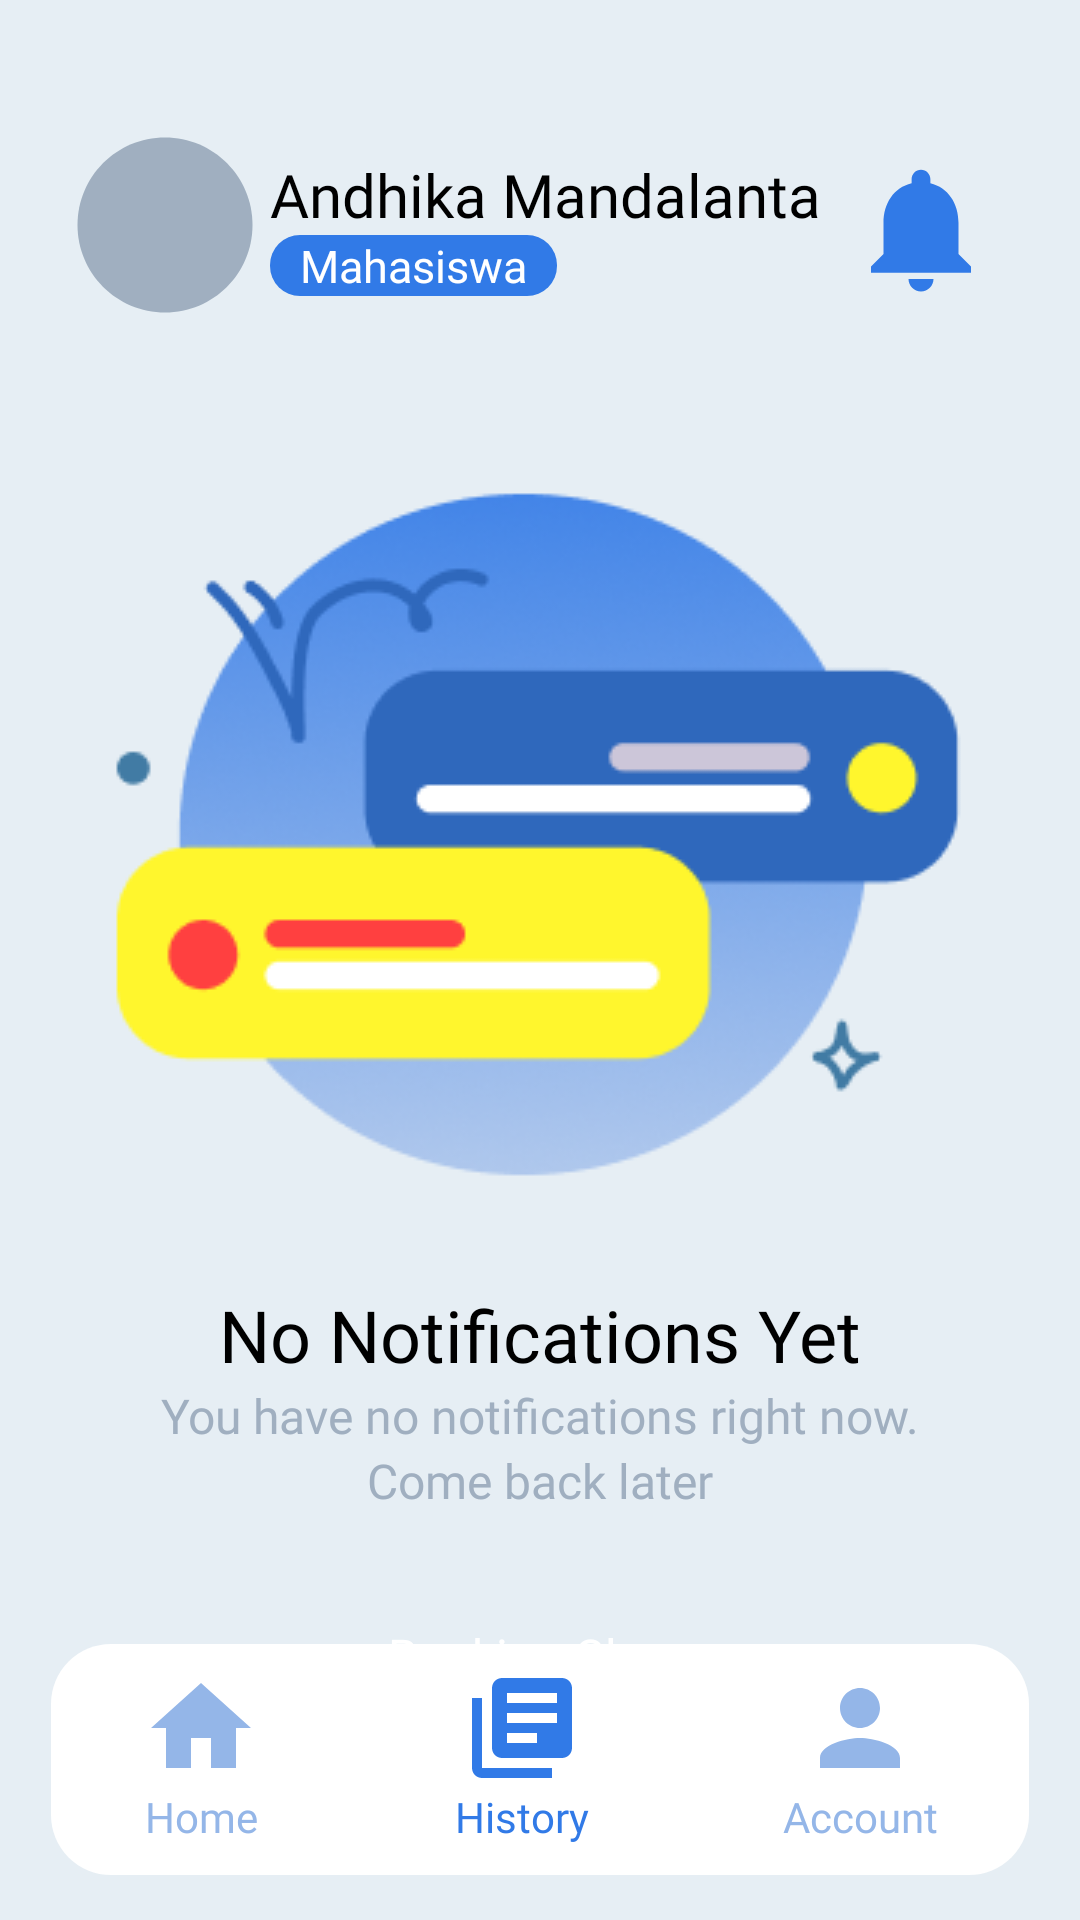

Named icons in this screenshot (1080px×1920px) and their bounding boxes, bbox=(x1, y1, x2, y2):
library books: bbox=(472, 1678, 572, 1778)
notifications: bbox=(871, 169, 971, 292)
person 24blue: bbox=(820, 1688, 900, 1768)
